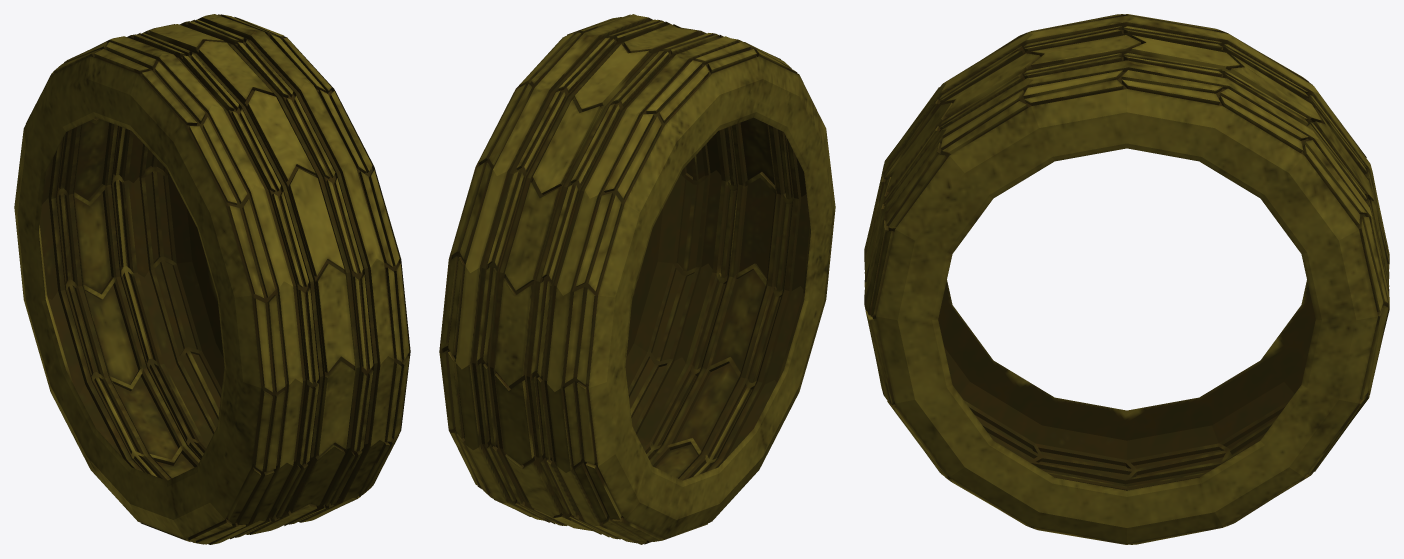
The model's file is Tire_Asset.fbx.
3 renders of one model, left to right at view 1: azimuth 30°, elevation 25°; view 2: azimuth 150°, elevation 25°; view 3: azimuth 270°, elevation 25°, orthographic.
Visible parts, largest first — view 1: PneuHP; view 2: PneuHP; view 3: PneuHP.
Boxes of the visible parts, box(x1,y1,x2,y2) form: PneuHP: box(14, 14, 410, 544); PneuHP: box(439, 14, 835, 544); PneuHP: box(864, 14, 1389, 544).
Size of the model in its own units: 73.37 by 200 by 200.
